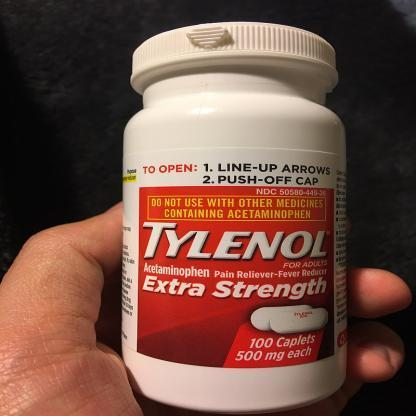jar: (123, 22, 346, 411)
